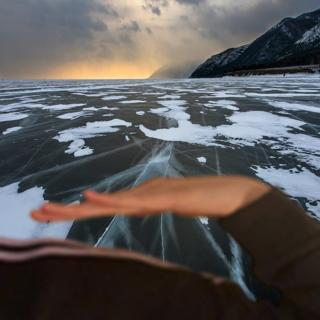Wait: (26, 167, 266, 232)
